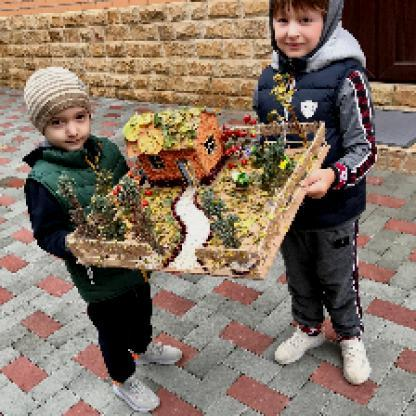child: (22, 66, 185, 414)
